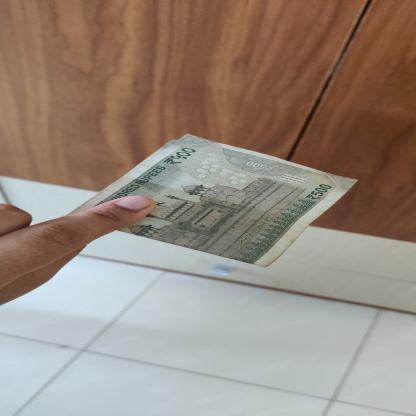New500Back: (62, 132, 361, 270)
